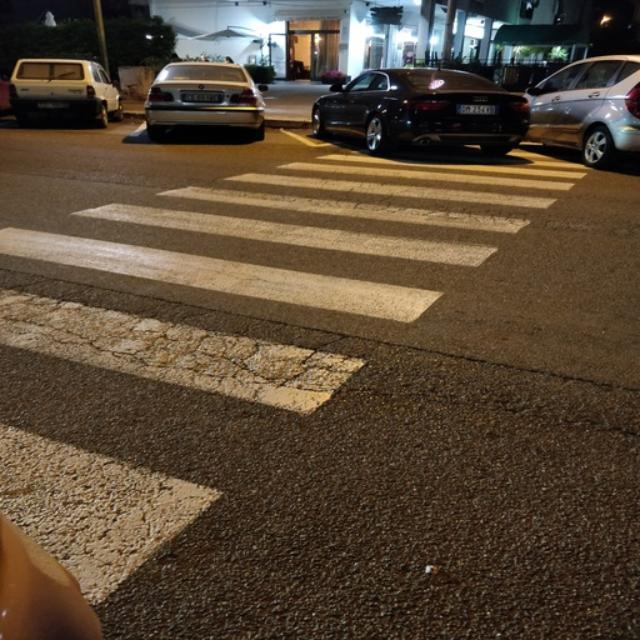sidewalk: (0, 137, 593, 640)
